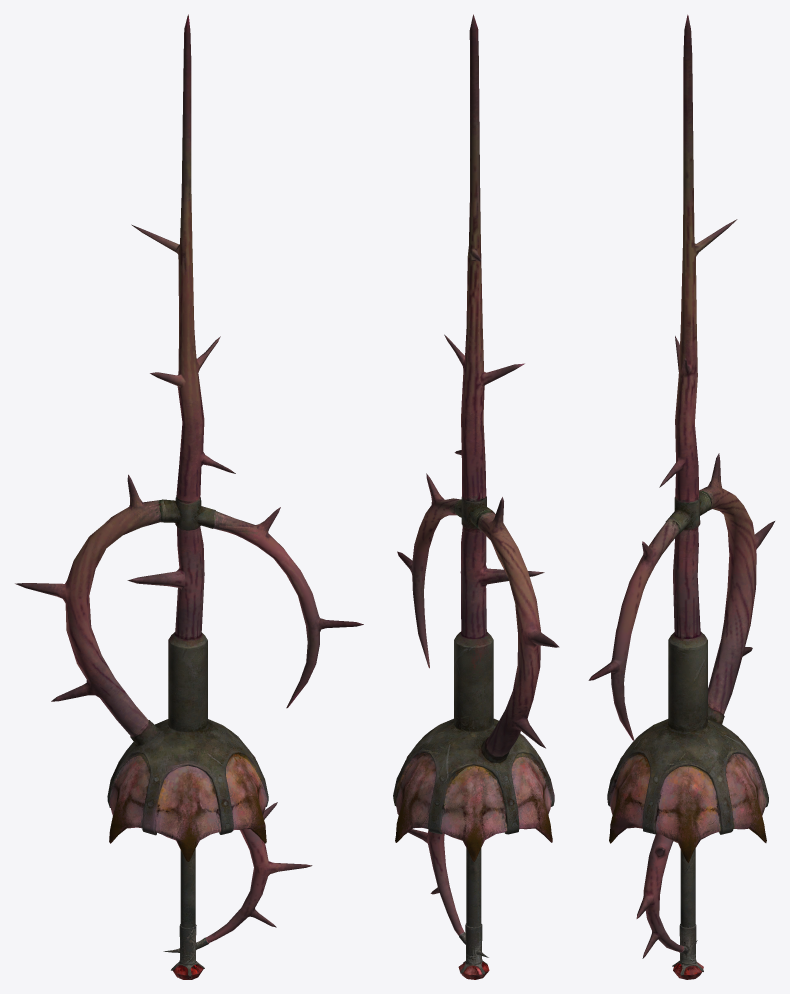
The model's file is one008.obj.
3 views of the same model, side by side, from view 1: azimuth 30°, elevation 25°; view 2: azimuth 150°, elevation 25°; view 3: azimuth 270°, elevation 25° (orthographic).
Visible parts, largest first — view 1: one008_000_LOD_1; view 2: one008_000_LOD_1; view 3: one008_000_LOD_1.
Boxes of the visible parts, x1,y1,x2,y2 form: one008_000_LOD_1: [15, 14, 363, 979]; one008_000_LOD_1: [393, 14, 559, 979]; one008_000_LOD_1: [588, 14, 774, 979].
Bounding box in the file's own units: 46.42 × 166 × 29.33.
